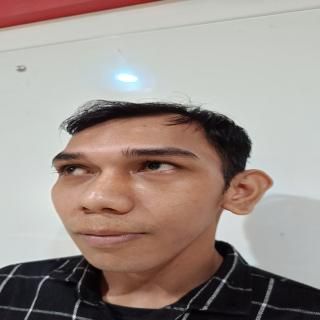Takut: (47, 112, 237, 284)
